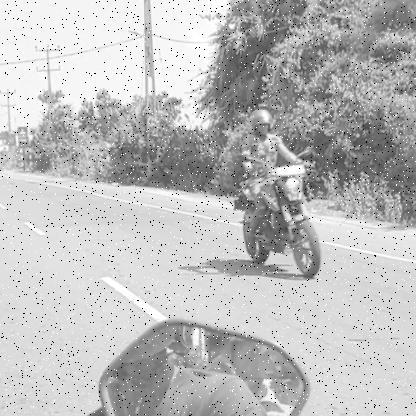motorcycle: (229, 162, 332, 287)
